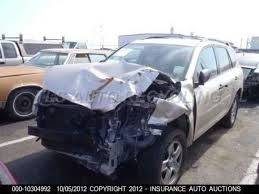Smashed: (27, 71, 183, 176)
